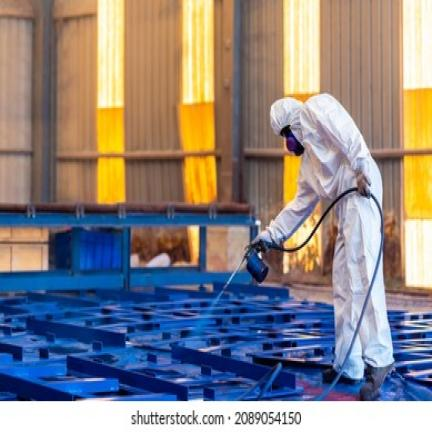besi_tidak_karat: (2, 274, 249, 399)
